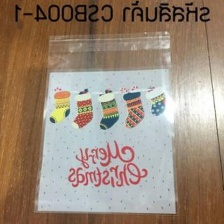snack: (26, 25, 187, 220)
